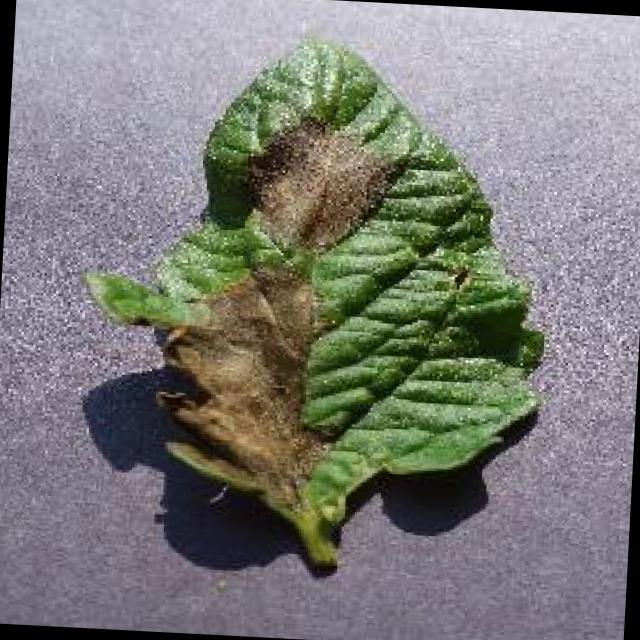Tomato_Late_Blight: (160, 254, 368, 499), (228, 103, 414, 262)
